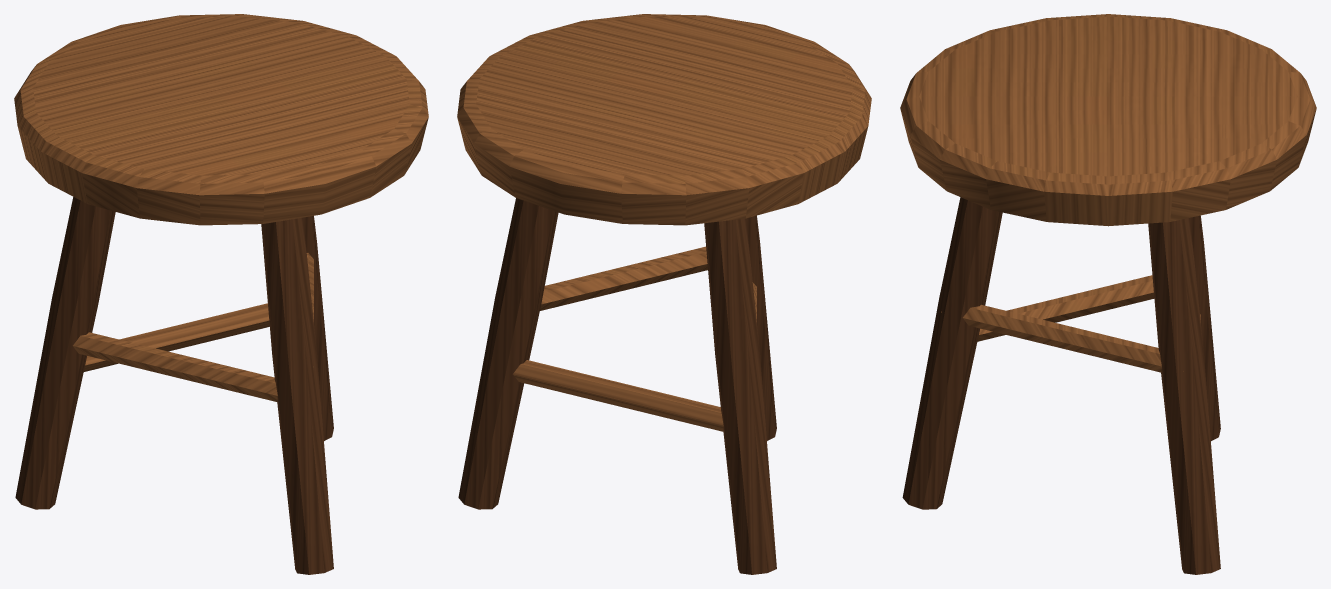
File: tavern-stool.glb
The picture shows the model from 3 angles, left to right: view 1: azimuth 30°, elevation 25°; view 2: azimuth 150°, elevation 25°; view 3: azimuth 270°, elevation 25°; orthographic projection.
Parts seen in each view (by area): view 1: tavern_stool; view 2: tavern_stool; view 3: tavern_stool.
Boxes of the visible parts, x1=… form: tavern_stool: x1=14, y1=14, x2=428, y2=574; tavern_stool: x1=457, y1=14, x2=871, y2=574; tavern_stool: x1=900, y1=14, x2=1316, y2=574.
Size of the model in its own units: 0.392 by 0.4234 by 0.392.
2 materials, 2 textured.
